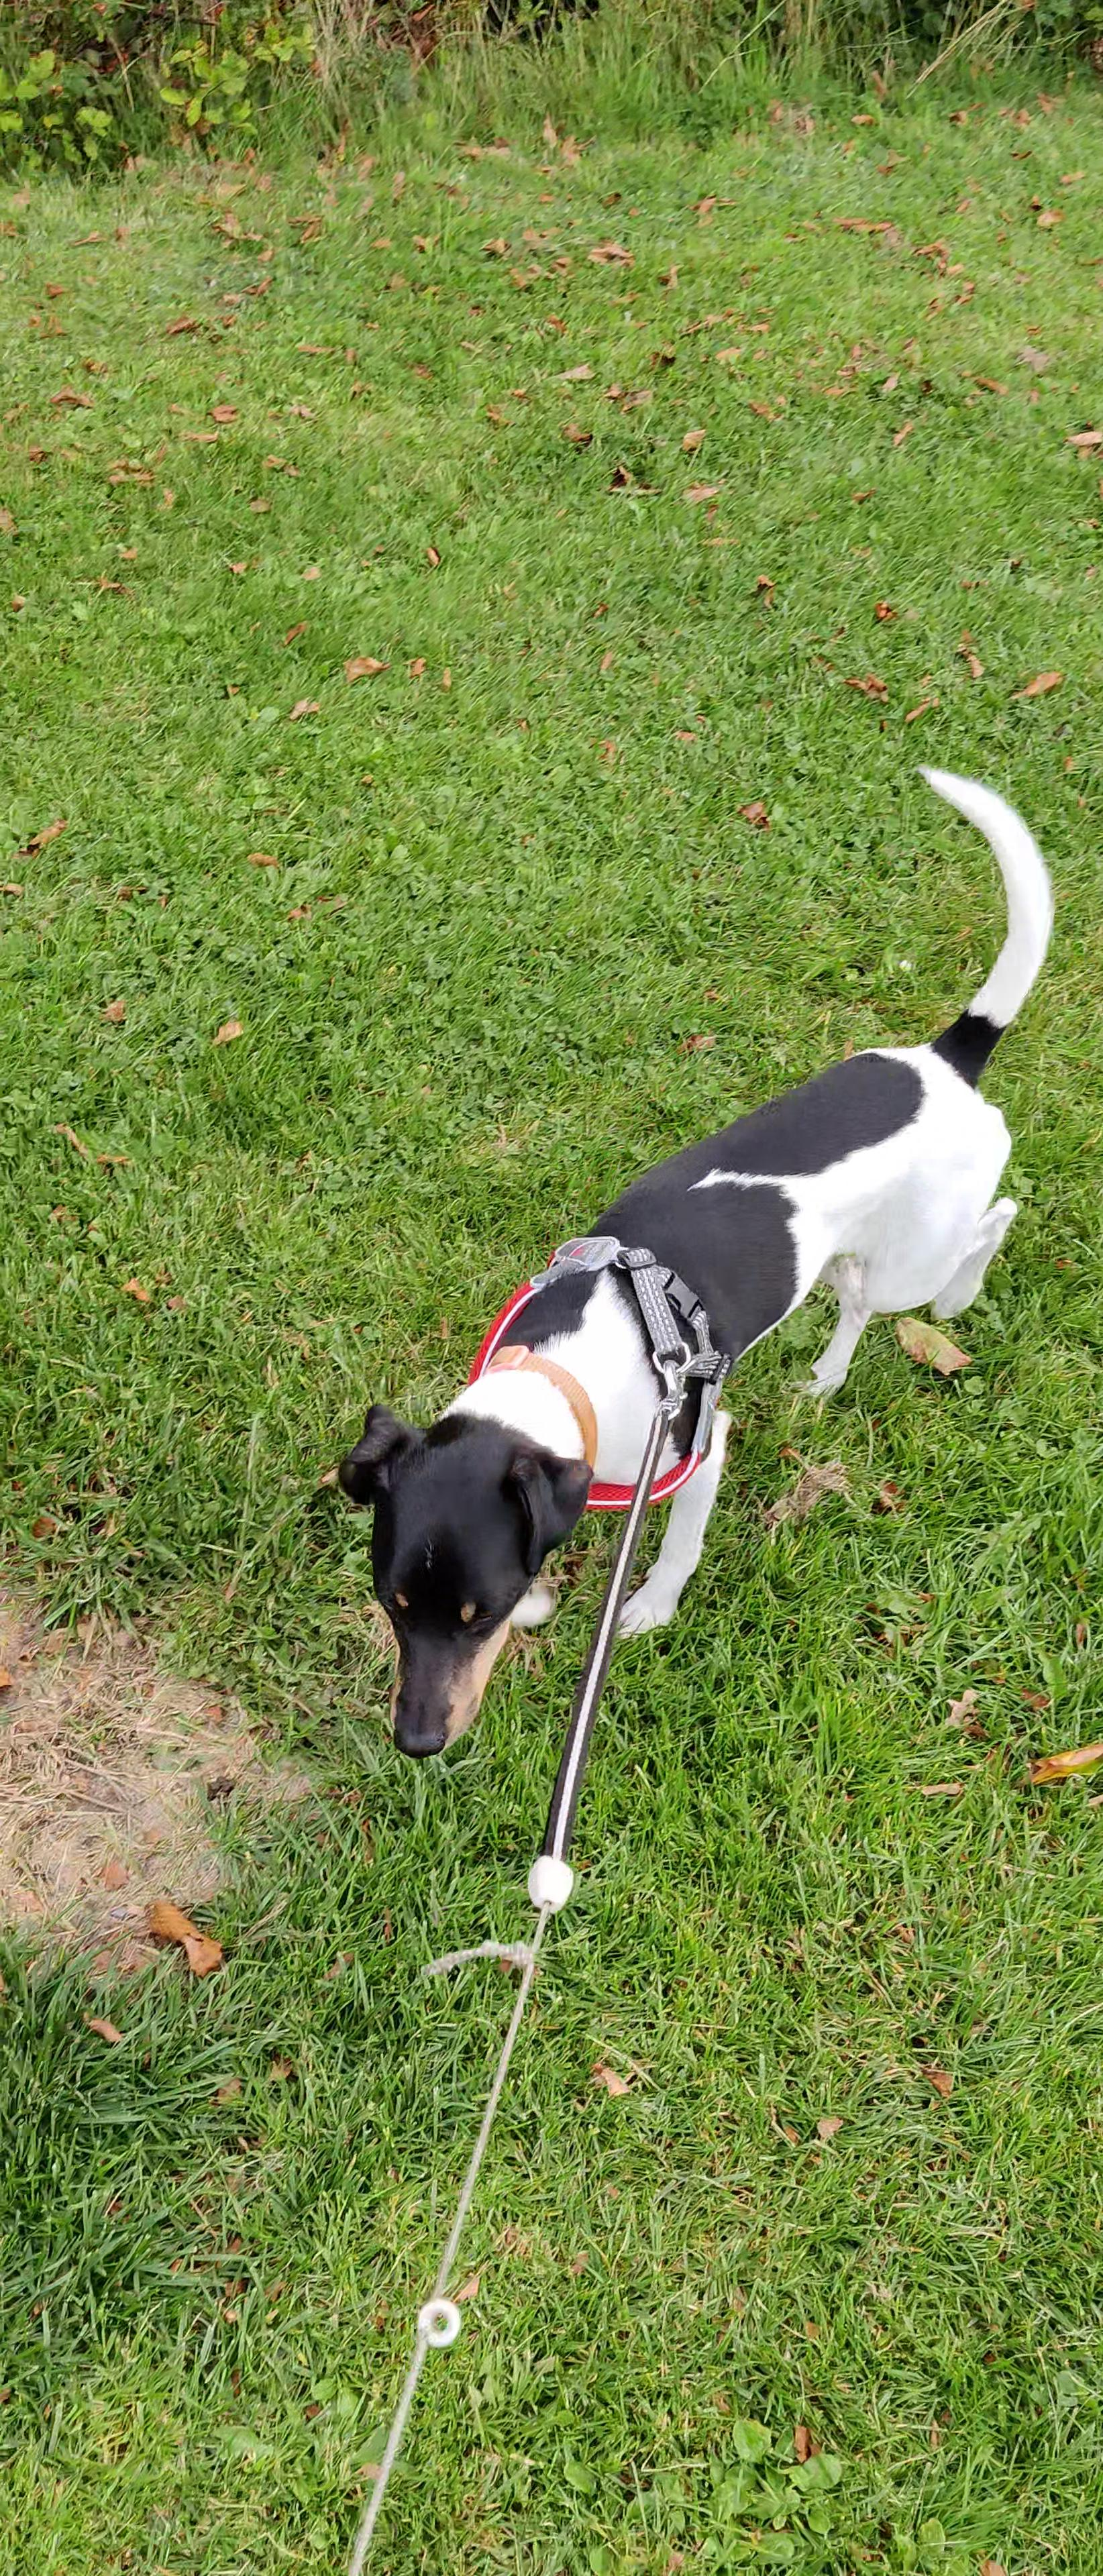Dog: (321, 756, 1064, 1763)
